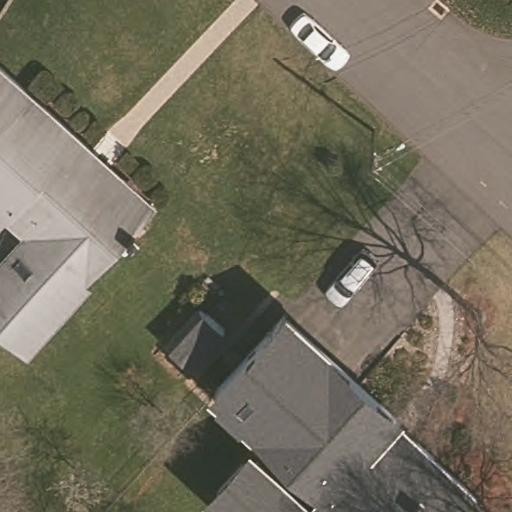DT: (369, 145, 391, 183)
